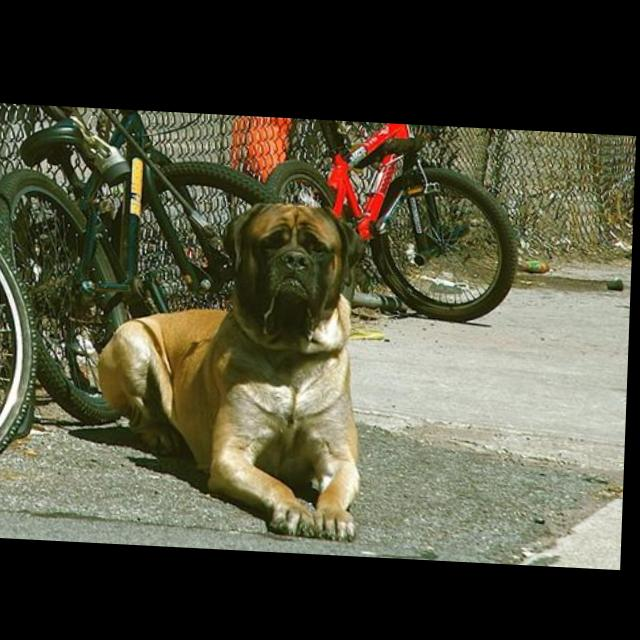bullmastiff: (97, 191, 375, 539)
